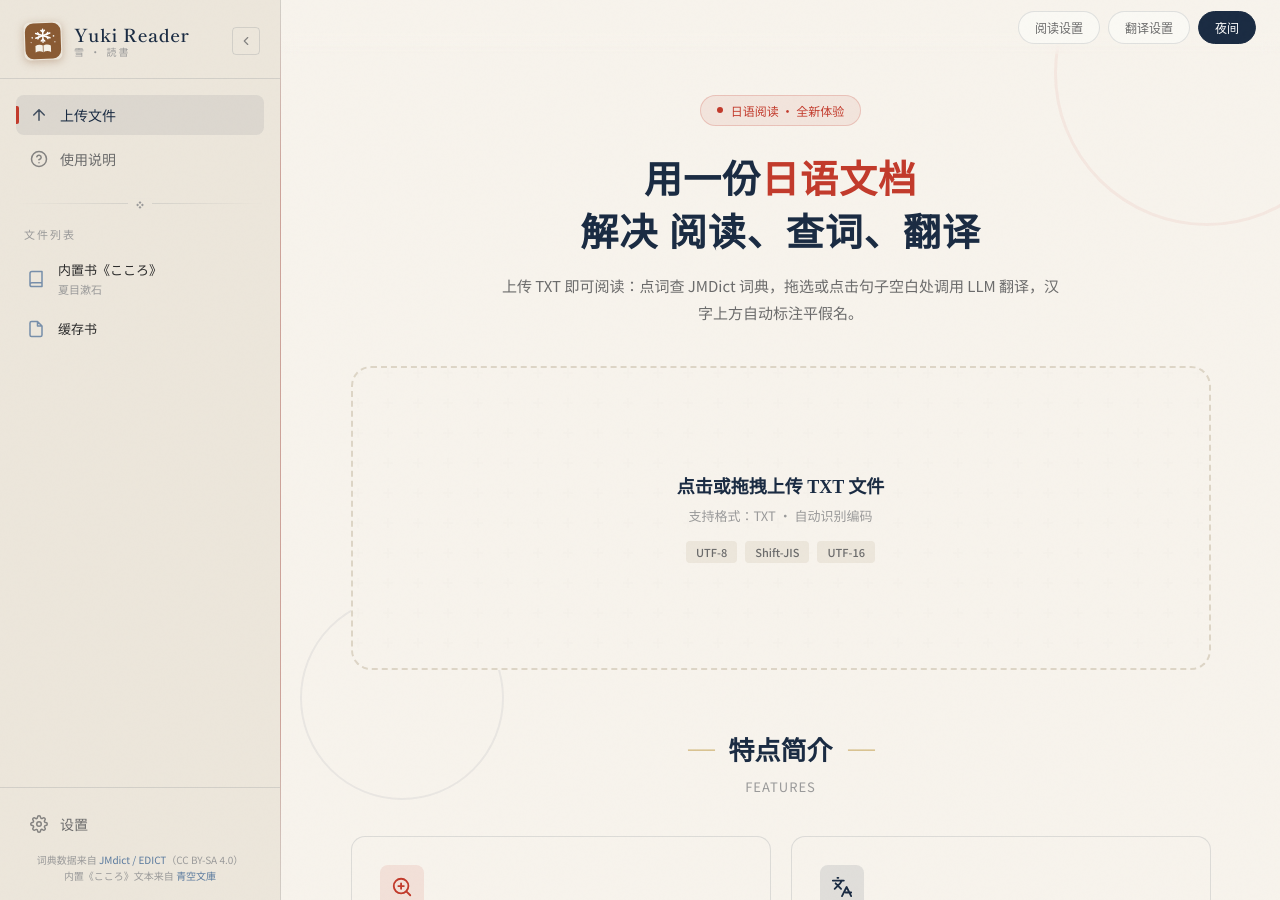
Test: 翻译结果缓存 › cache hit shows the result without a network request
The image size is (1280, 900).
Click the button "缓存书". click: (125, 328)
box: [12, 309, 238, 348]
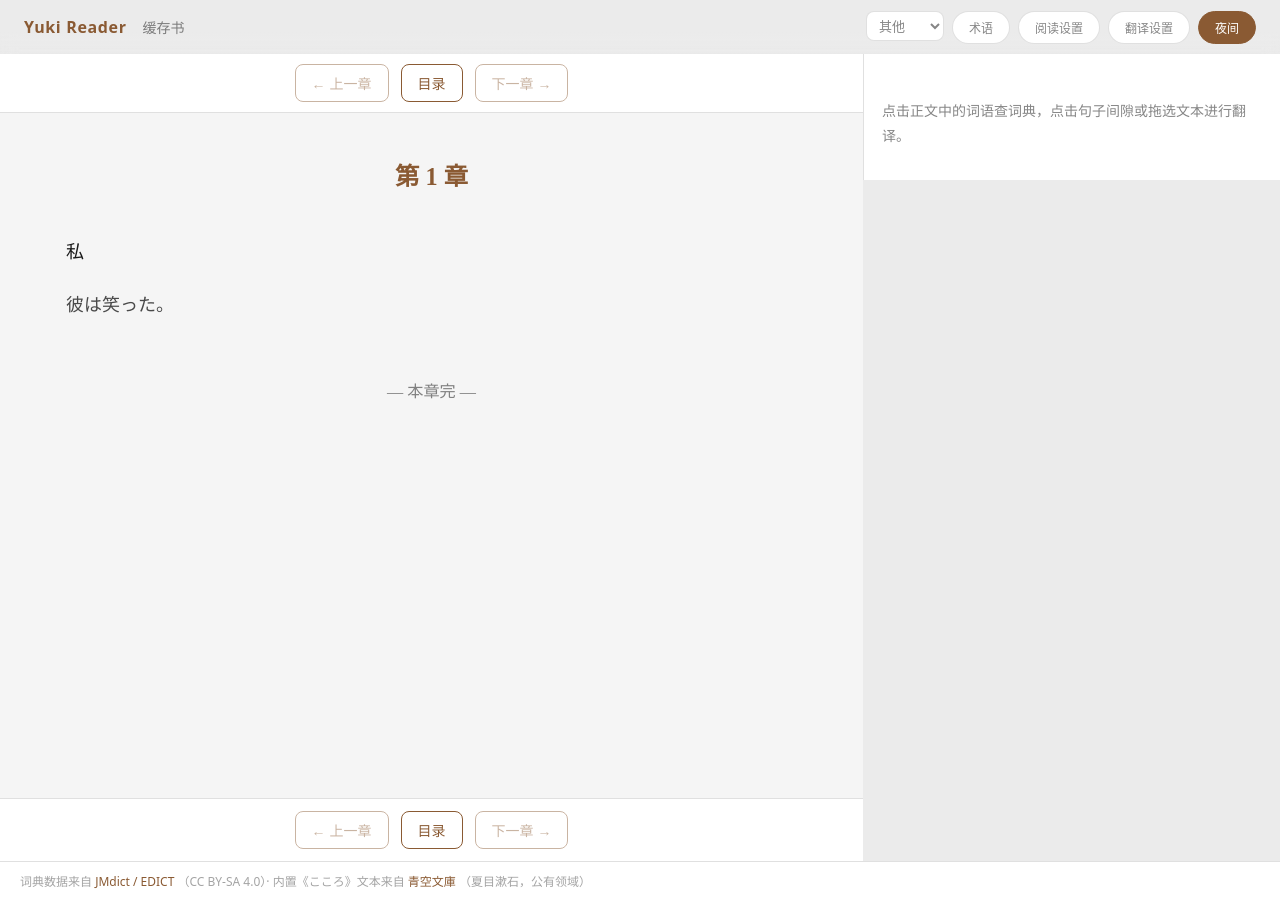
Click the element with test id "sentence" showing "私". click: (75, 252)
box: [66, 242, 84, 262]
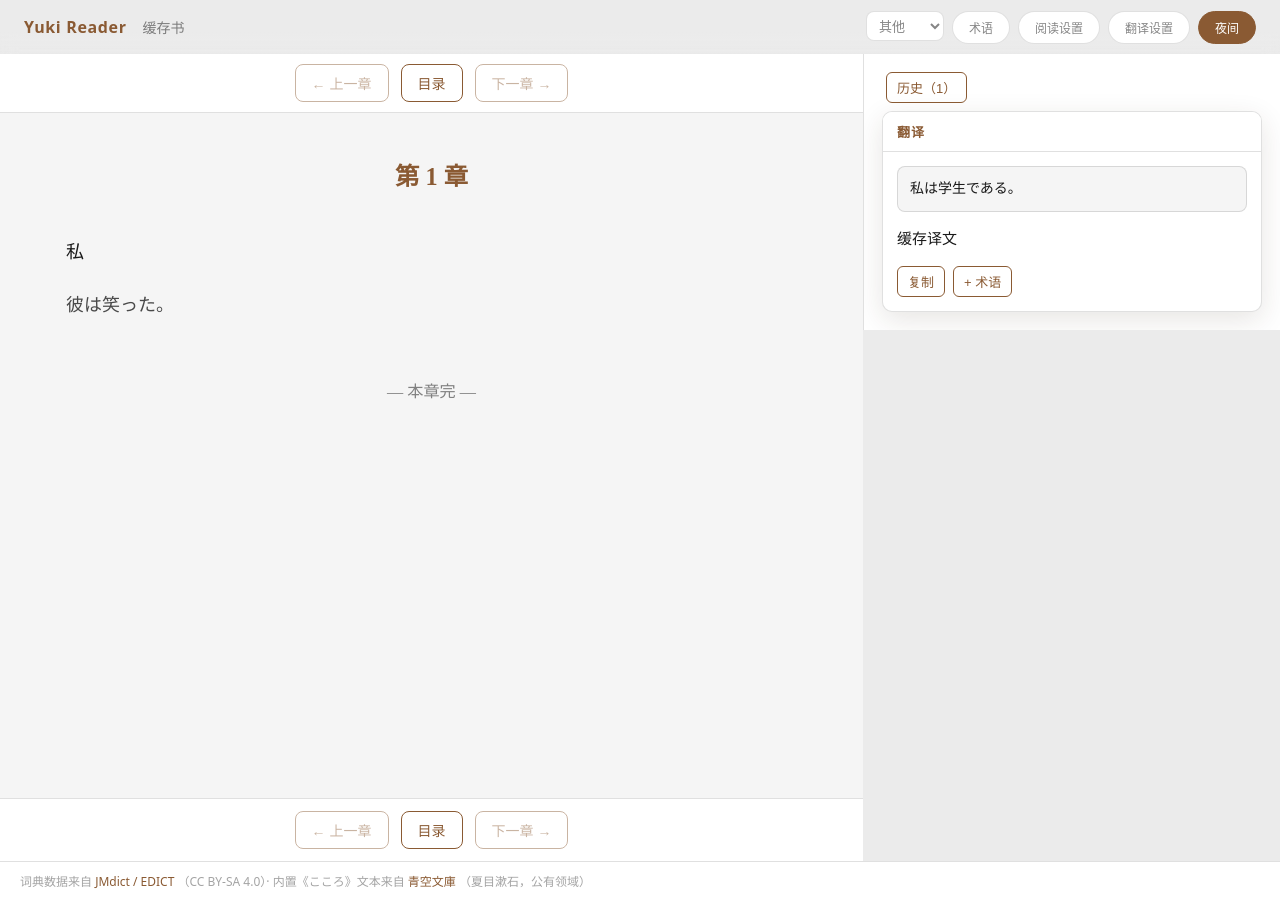
Expected: the text "缓存译文" is shown, [897, 228, 957, 248]
